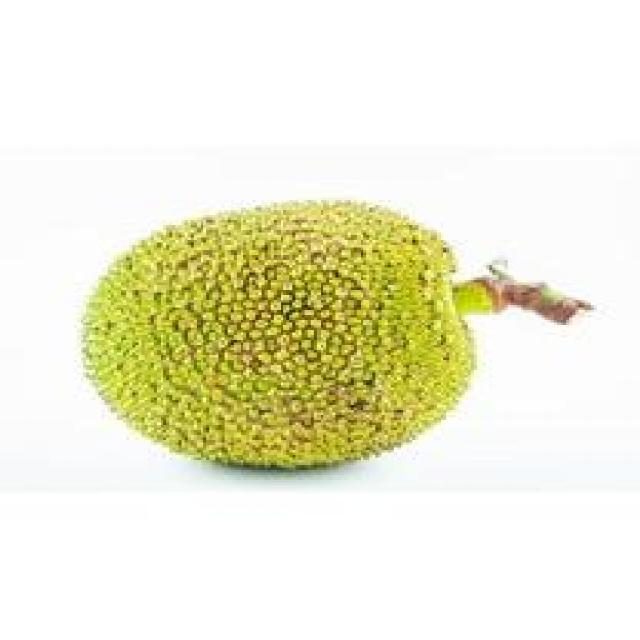Fruit: (65, 185, 492, 490)
